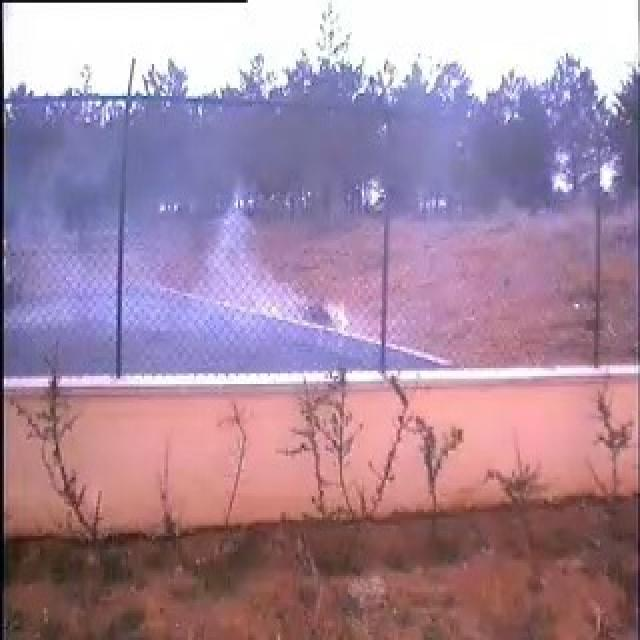smoke: (122, 108, 395, 372)
